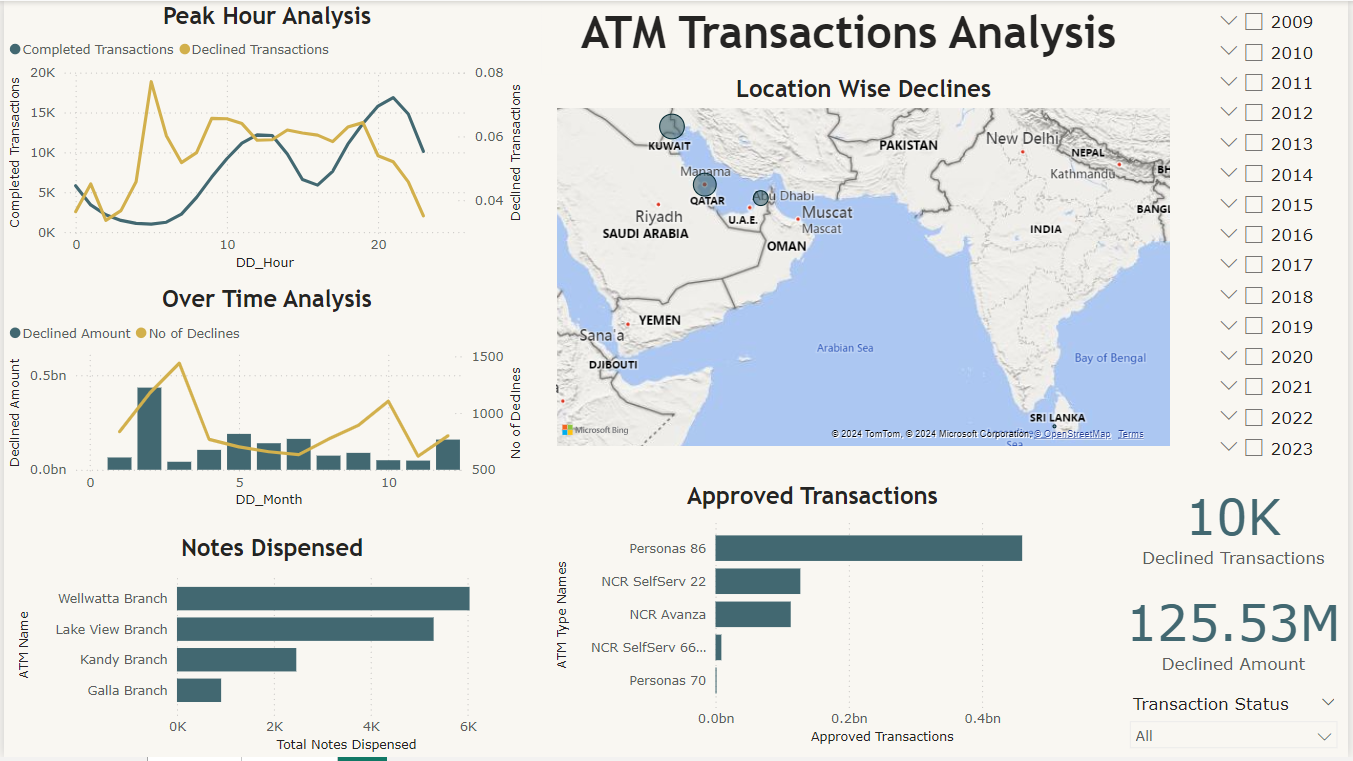

The dashboard page shown, as its layout file describes it:
{"tool":"powerbi","page":{"name":"Page 1","canvas":[1280,720],"ordinal":0},"visuals":[{"type":"slicer","fields":{"Values":["Data_Snapshot.DD_Year Hierarchy.DD_Year","Data_Snapshot.DD_Year Hierarchy.DD_Quarter","Data_Snapshot.DD_Year Hierarchy.DD_Month","Data_Snapshot.DD_Year Hierarchy.DD_Week","Data_Snapshot.DD_Year Hierarchy.DD_Day"]},"box":[1145.8,0,129,456.9],"z":0},{"type":"card","fields":{"Values":["Avg(Data_Snapshot.DECLINED_AMOUNT)"]},"box":[1062.1,554.4,218.2,90.6],"z":1000},{"type":"card","fields":{"Values":["Sum(Data_Snapshot.No_of_Declined_Transactions)"]},"box":[1061.8,452.8,218.2,93.3],"z":2000},{"type":"lineChart","title":"Peak Hour Analysis","fields":{"Y":["Sum(Data_Snapshot.No_of_Completed_Transactions)"],"Y2":["Avg(Data_Snapshot.No_of_Declined_Transactions)"],"Category":["Data_Snapshot.DD_Hour Hierarchy.DD_Hour","Data_Snapshot.DD_Hour Hierarchy.DD_Minute"]},"box":[0,0,500.9,260.7],"z":3000},{"type":"map","title":"Location Wise Declines","fields":{"Category":["Data_Snapshot.CITY Hierarchy.CITY","Data_Snapshot.CITY Hierarchy.REGION","Data_Snapshot.CITY Hierarchy.LOCATION"],"Size":["Sum(Data_Snapshot.No_of_Declined_Transactions)"]},"box":[521.4,70,594.2,358.1],"z":4000},{"type":"lineStackedColumnComboChart","title":"Over Time Analysis","fields":{"Category":["Data_Snapshot.DD_Year Hierarchy.DD_Year","Data_Snapshot.DD_Year Hierarchy.DD_Quarter","Data_Snapshot.DD_Year Hierarchy.DD_Month","Data_Snapshot.DD_Year Hierarchy.DD_Week","Data_Snapshot.DD_Year Hierarchy.DD_Day"],"Y":["Avg(Data_Snapshot.DECLINED_AMOUNT)"],"Y2":["Sum(Data_Snapshot.No_of_Declined_Transactions)"]},"box":[0,270.3,500.9,216.8],"z":5000},{"type":"barChart","title":"Approved Transactions ","fields":{"Category":["Data_Snapshot.ATM_TYPE_NAME"],"Y":["Avg(Data_Snapshot.Approved_Transaction_Amount)"]},"box":[521.4,456.9,496.7,255.2],"z":6000},{"type":"barChart","title":"Notes Dispensed","fields":{"Y":["Sum(Data_Snapshot.Total_Notes_Dispensed)"],"Category":["Data_Snapshot.ATM_NAME"]},"box":[9.6,507.7,491.3,212.7],"z":7000},{"type":"slicer","fields":{"Values":["Data_Snapshot.Last_Tran_Status_Desc"]},"box":[1062.1,654.5,218.2,65.9],"z":8000},{"type":"textbox","box":[511.8,0,584.6,70],"z":9000}]}

Visuals, with their boxes in screenshot pixels (x1, y1, x2, y2), scaled from the page's 1280x720 canvas onto the 1353x761 screenshot:
slicer - Data_Snapshot.DD_Year Hierarchy.DD_Year x Data_Snapshot.DD_Year Hierarchy.DD_Quarter: rect(1211, 0, 1348, 483)
card - Avg(Data_Snapshot.DECLINED_AMOUNT): rect(1123, 586, 1352, 682)
card - Sum(Data_Snapshot.No_of_Declined_Transactions): rect(1122, 479, 1352, 577)
"Peak Hour Analysis" lineChart: rect(0, 0, 529, 276)
"Location Wise Declines" map: rect(551, 74, 1179, 452)
"Over Time Analysis" lineStackedColumnComboChart: rect(0, 286, 529, 515)
"Approved Transactions " barChart: rect(551, 483, 1076, 753)
"Notes Dispensed" barChart: rect(10, 537, 529, 760)
slicer - Data_Snapshot.Last_Tran_Status_Desc: rect(1123, 692, 1352, 760)
textbox: rect(541, 0, 1159, 74)
